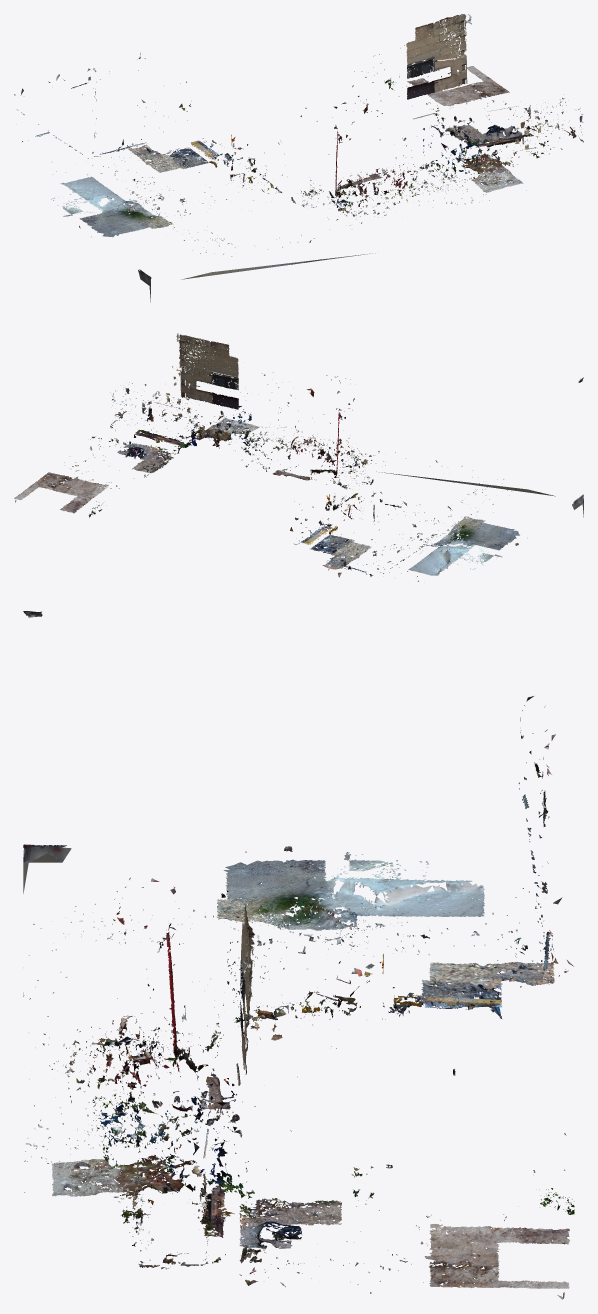
3 views of the same model, one above another, from view 1: azimuth 30°, elevation 25°; view 2: azimuth 150°, elevation 25°; view 3: azimuth 270°, elevation 25° (orthographic). The views are drawn at different scales.
Size of the model in its own units: 11.17 by 3.58 by 6.15.
Materials: 1 (1 with a texture image).
